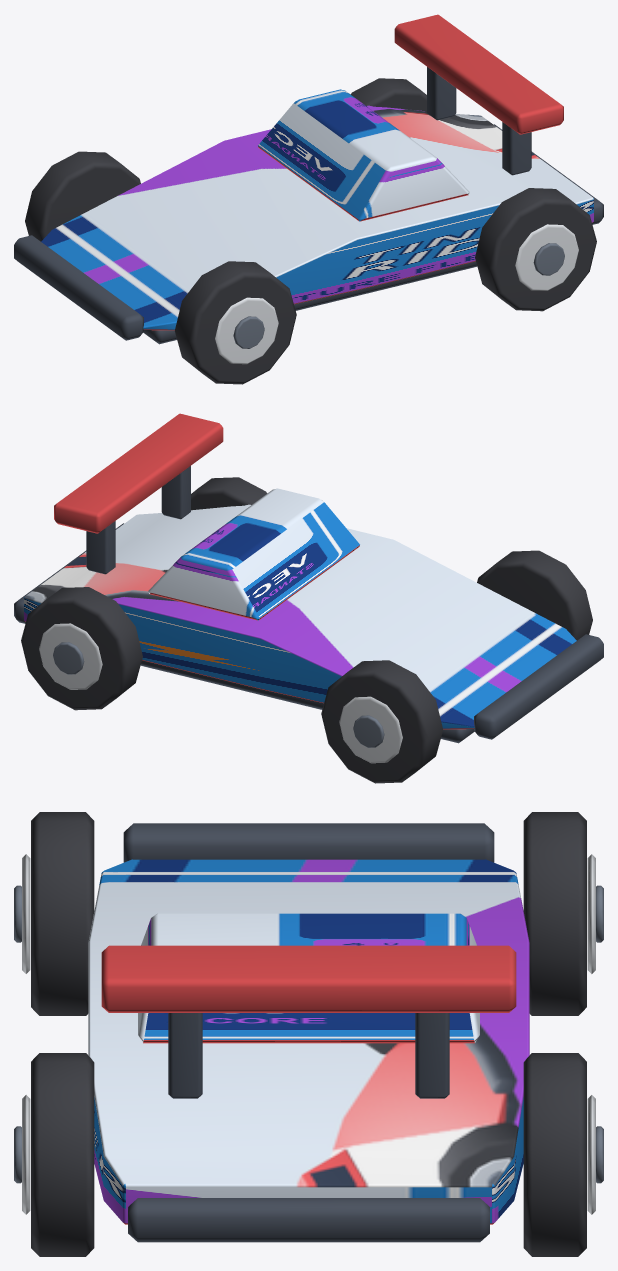
3 views of the same model, one above another, from view 1: azimuth 30°, elevation 25°; view 2: azimuth 150°, elevation 25°; view 3: azimuth 270°, elevation 25° (orthographic). The views are drawn at different scales.
Parts seen in each view (by area): view 1: FF-05_connected_shell, FF-05_cabin, rear airfoil, Tire.002, Tire, Tire.001, front bumper, Rim.002, Rim, Tire.003, underbody, wing support (+3 smaller); view 2: FF-05_connected_shell, FF-05_cabin, rear airfoil, Tire.003, Tire.001, Tire, front bumper, Rim.003, Rim.001, Tire.002, underbody, wing support.001 (+3 smaller); view 3: FF-05_connected_shell, rear airfoil, FF-05_cabin, rear bumper, front bumper, Tire.002, Tire.003, Tire, Tire.001, wing support, wing support.001, Rim (+3 smaller).
Boxes of the visible parts, x1=… form: FF-05_connected_shell: x1=41, y1=105, x2=593, y2=330; FF-05_cabin: x1=258, y1=89, x2=469, y2=221; rear airfoil: x1=394, y1=14, x2=563, y2=134; Tire.002: x1=475, y1=188, x2=596, y2=311; Tire: x1=175, y1=261, x2=296, y2=384; Tire.001: x1=25, y1=151, x2=140, y2=241; front bumper: x1=14, y1=235, x2=143, y2=340; Rim.002: x1=515, y1=224, x2=578, y2=290; Rim: x1=215, y1=297, x2=278, y2=364; Tire.003: x1=350, y1=78, x2=426, y2=111; underbody: x1=143, y1=261, x2=477, y2=344; wing support: x1=502, y1=122, x2=531, y2=175; FF-05_connected_shell: x1=24, y1=504, x2=576, y2=729; FF-05_cabin: x1=148, y1=488, x2=359, y2=620; rear airfoil: x1=54, y1=413, x2=223, y2=533; Tire.003: x1=21, y1=587, x2=142, y2=710; Tire.001: x1=321, y1=660, x2=442, y2=783; Tire: x1=477, y1=550, x2=592, y2=640; front bumper: x1=474, y1=634, x2=603, y2=739; Rim.003: x1=39, y1=623, x2=102, y2=689; Rim.001: x1=339, y1=696, x2=402, y2=763; Tire.002: x1=191, y1=477, x2=267, y2=510; underbody: x1=140, y1=660, x2=474, y2=743; wing support.001: x1=86, y1=521, x2=115, y2=574; FF-05_connected_shell: x1=88, y1=859, x2=529, y2=1224; rear airfoil: x1=101, y1=945, x2=516, y2=1012; FF-05_cabin: x1=138, y1=913, x2=479, y2=1043; rear bumper: x1=128, y1=1198, x2=489, y2=1242; front bumper: x1=123, y1=823, x2=494, y2=862; Tire.002: x1=31, y1=1053, x2=94, y2=1256; Tire.003: x1=523, y1=1053, x2=586, y2=1256; Tire: x1=31, y1=812, x2=94, y2=1015; Tire.001: x1=523, y1=812, x2=586, y2=1015; wing support: x1=168, y1=1013, x2=202, y2=1098; wing support.001: x1=415, y1=1013, x2=449, y2=1098; Rim: x1=22, y1=854, x2=30, y2=973.
Bounding box in the file's own units: 377 × 136 × 242.
